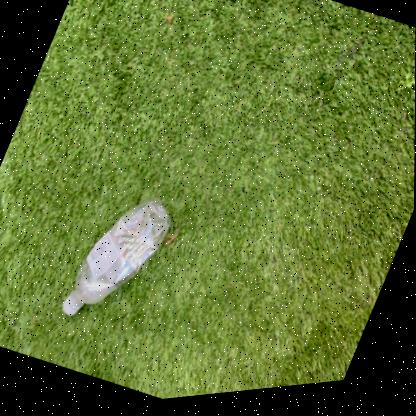Plastic: (62, 201, 169, 317)
